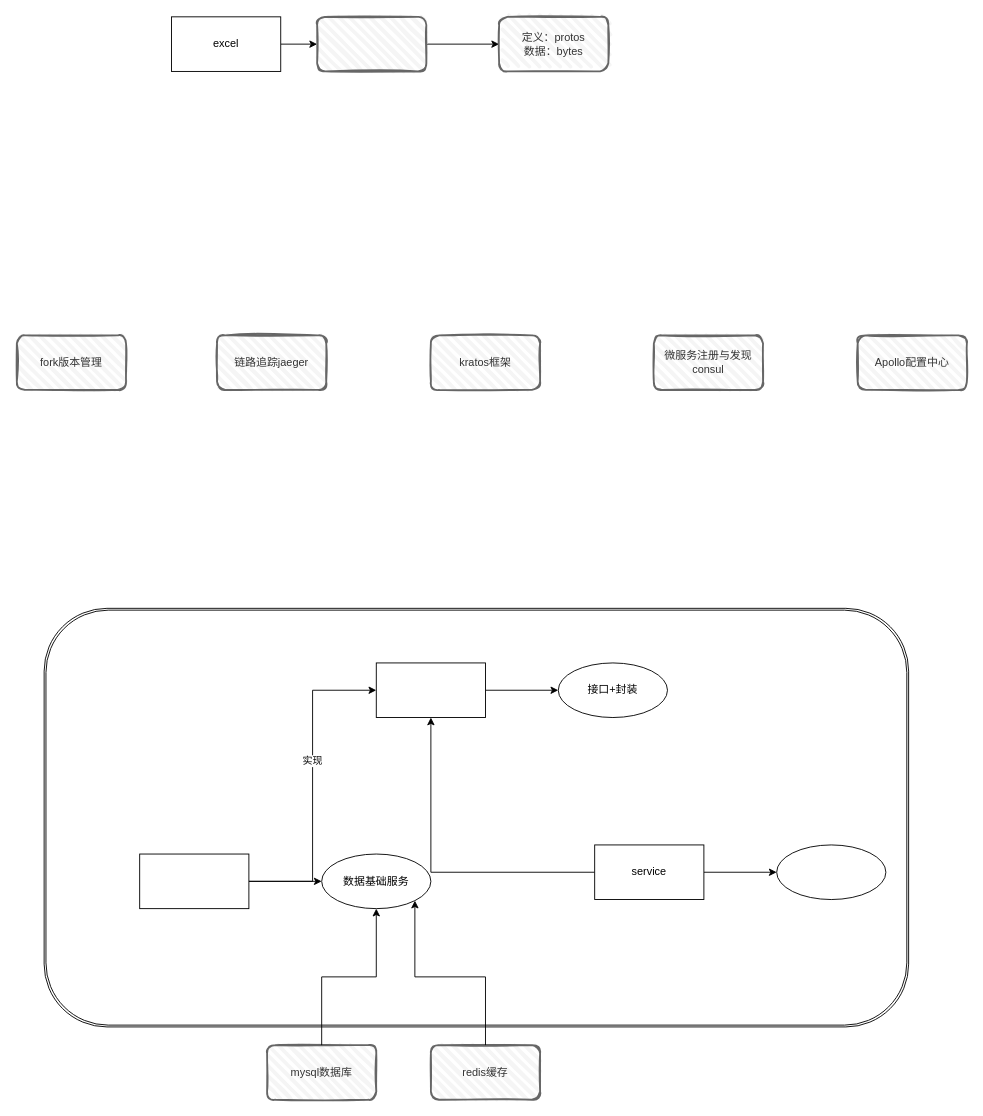
Some shapes in this 983 by 1116 pixel diagram are drawn without their labels. The centre of each missing label's shape, as x and y in pixels:
biz: pixel 430 690
data: pixel 194 881
excel2pb: pixel 371 43
调用接口: pixel 831 872
